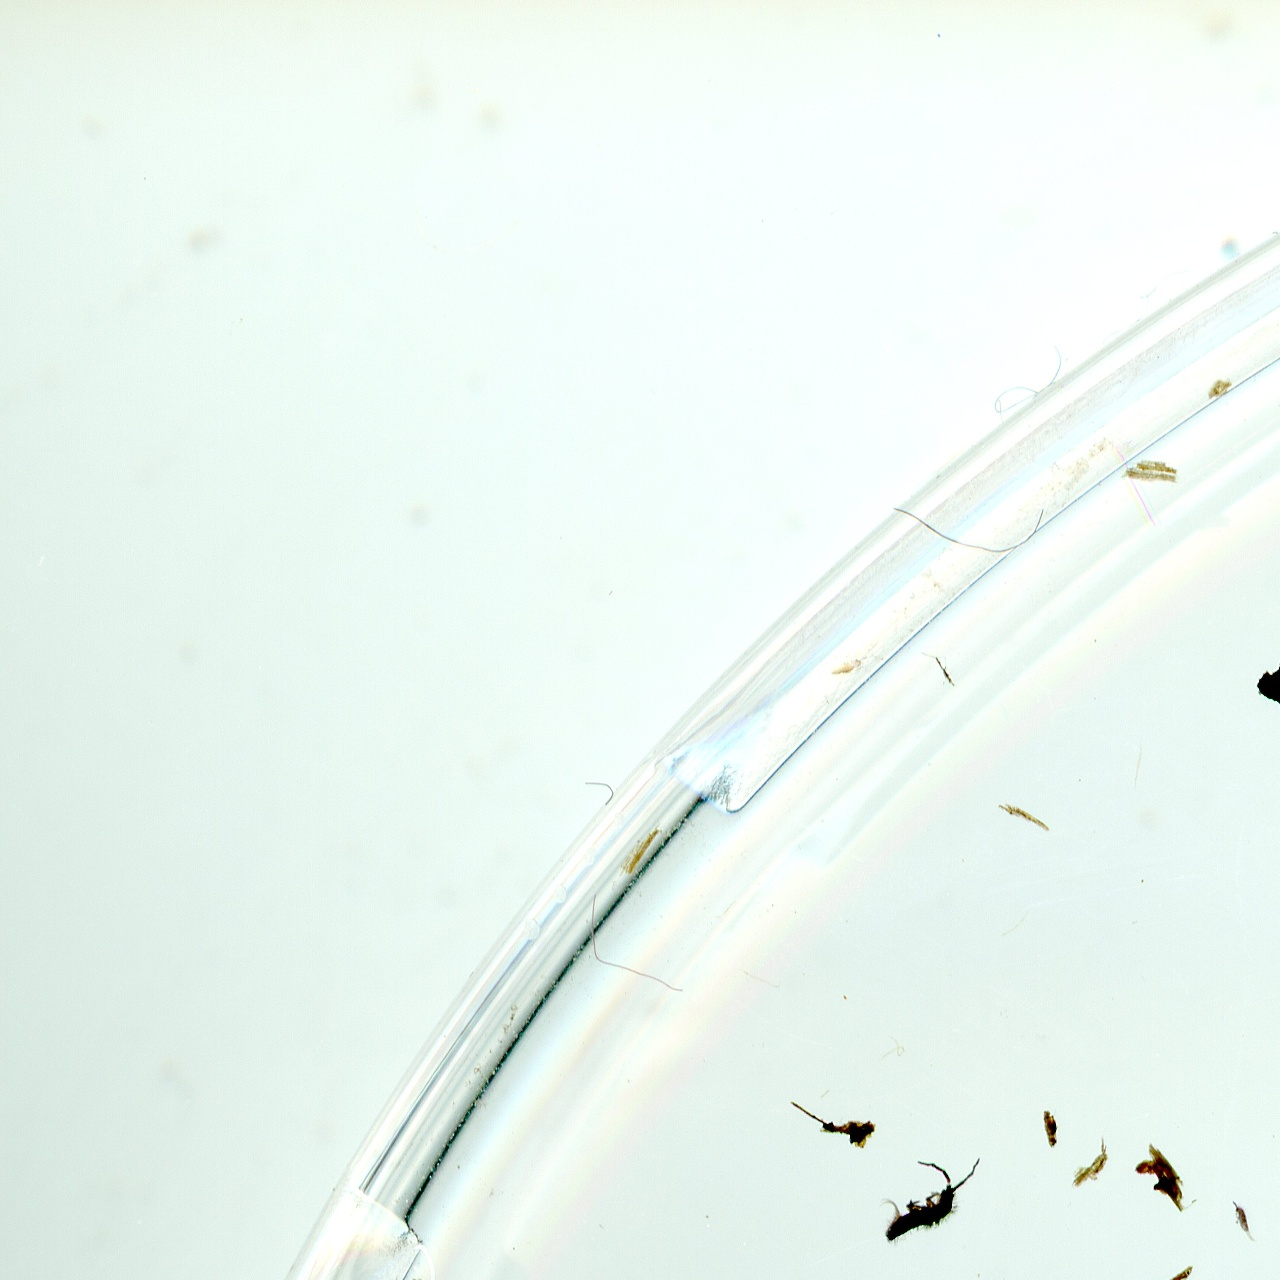arthropod: (855, 1131, 1006, 1258), (1221, 1192, 1266, 1254)
